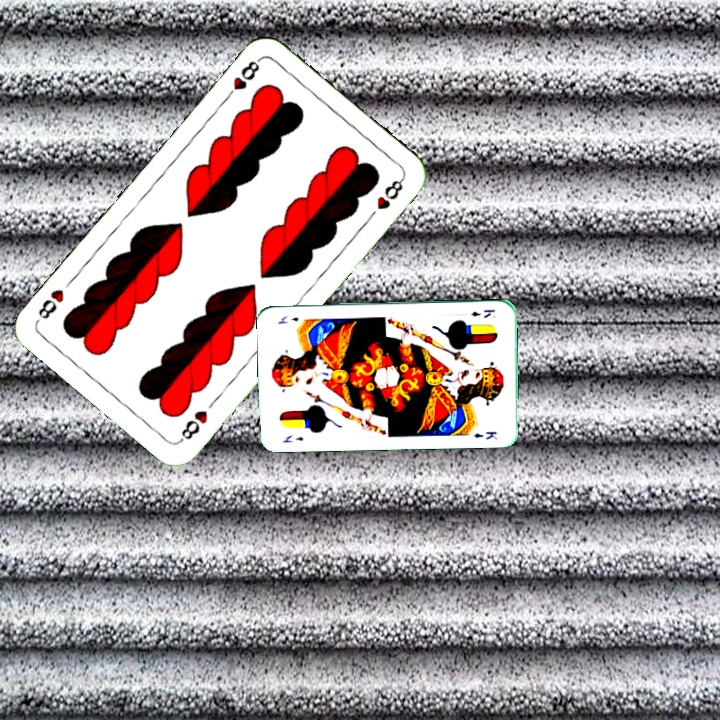EK: (468, 306, 498, 320), (278, 431, 306, 446)
H8: (221, 54, 264, 103), (175, 406, 211, 445)
